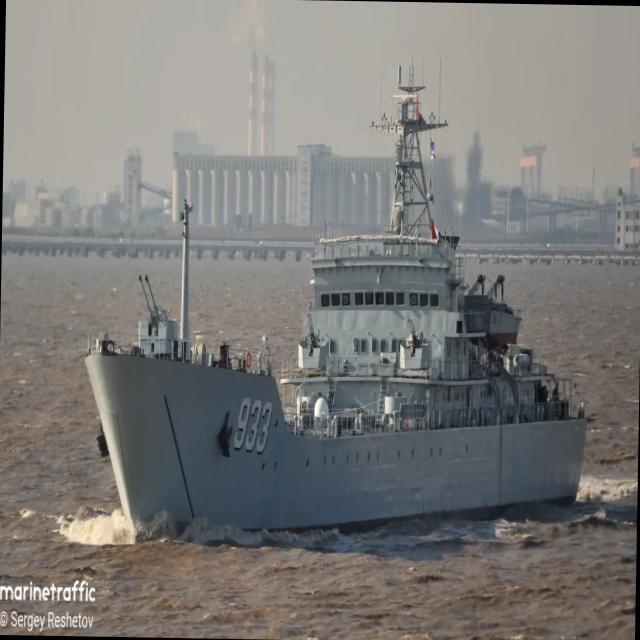Military: (85, 68, 586, 529)
